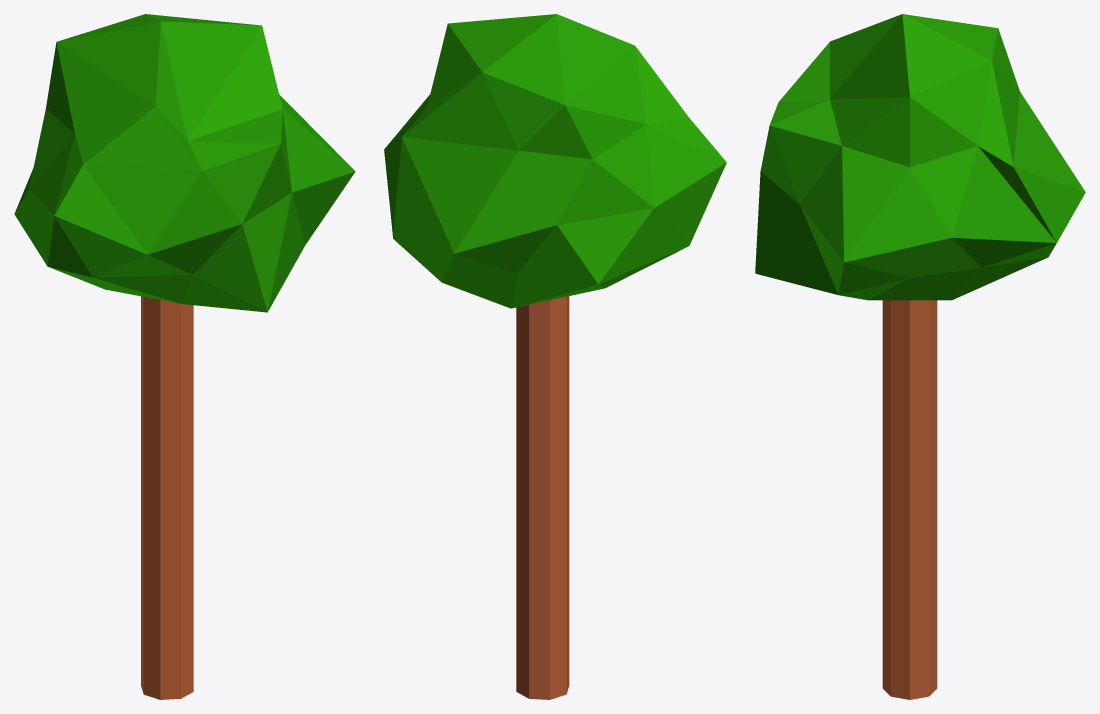
Rendered from Tree.gltf.
3 views of the same model, side by side, from view 1: azimuth 30°, elevation 25°; view 2: azimuth 150°, elevation 25°; view 3: azimuth 270°, elevation 25° (orthographic).
Visible parts, largest first — view 1: Icosphere, Cylinder; view 2: Icosphere, Cylinder; view 3: Icosphere, Cylinder.
Part boxes in pixels (left/top/right/bottom): Icosphere: left=14, top=14, right=355, bottom=312; Cylinder: left=141, top=296, right=193, bottom=699; Icosphere: left=384, top=14, right=726, bottom=308; Cylinder: left=516, top=296, right=569, bottom=699; Icosphere: left=755, top=14, right=1085, bottom=300; Cylinder: left=882, top=300, right=937, bottom=699.
Size of the model in its own units: 12.83 by 27.18 by 12.16.
